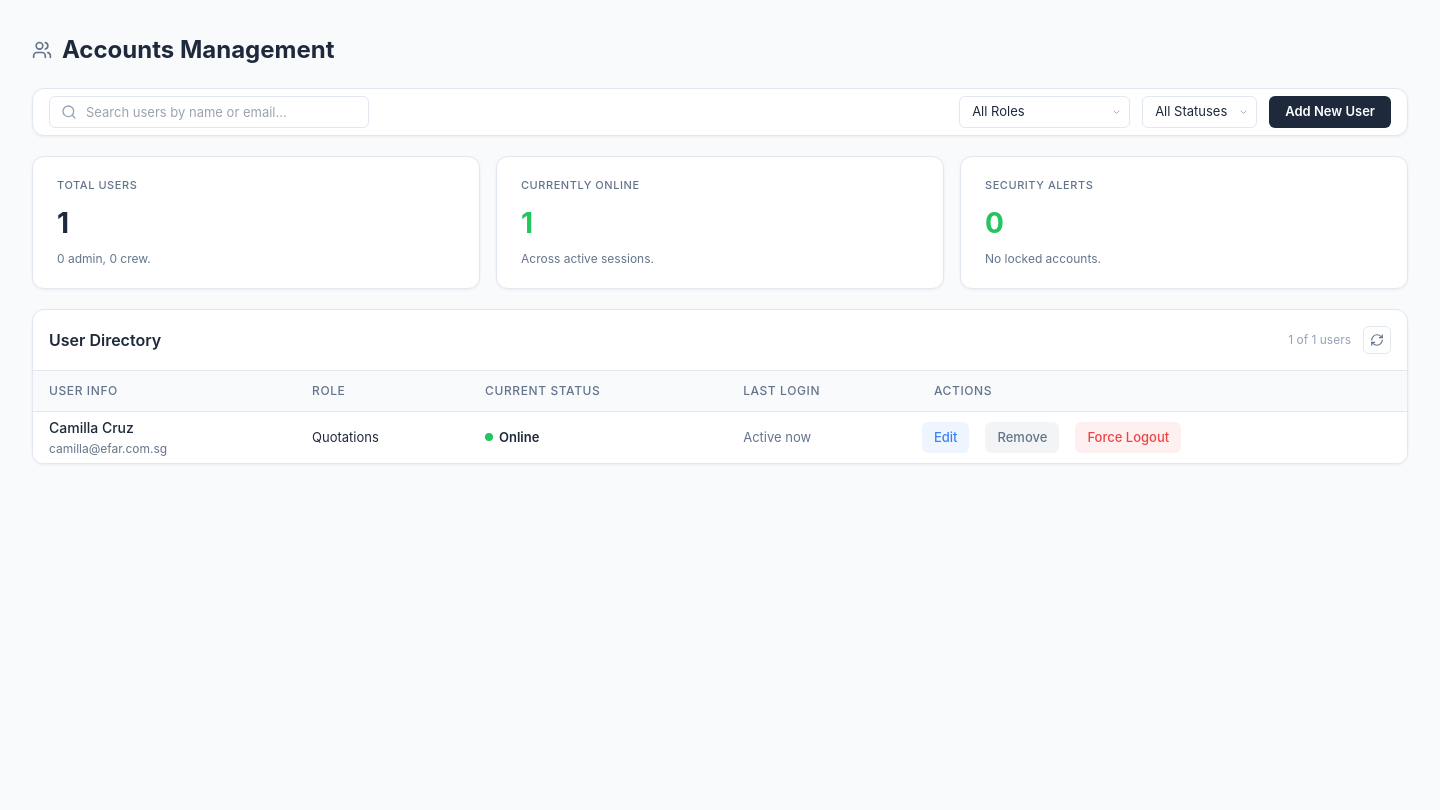
Scenario: Accounts Management - Add New User form › password visibility toggle switches the input between hidden and visible
This screenshot has width=1440, height=810.
Expected: the text "camilla@efar.com.sg" is shown, [49,441,167,456]
Click the button "Add New User" at (1330, 112), box [1269,96,1391,128]
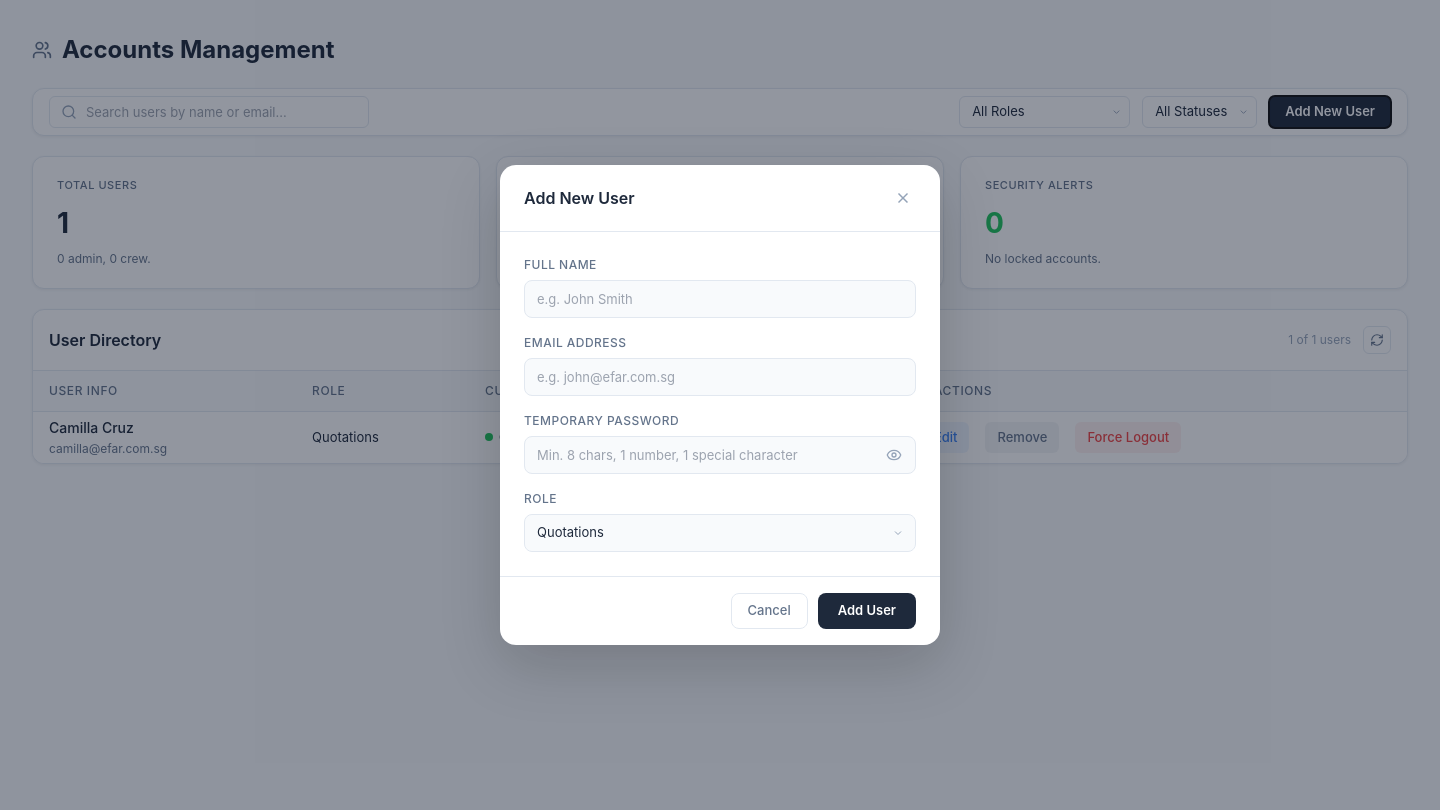
Type "Efar@2026" into the password field with placeholder "Min. 8 chars, 1 number, 1 special character" at (720, 455), box [524,436,916,474]
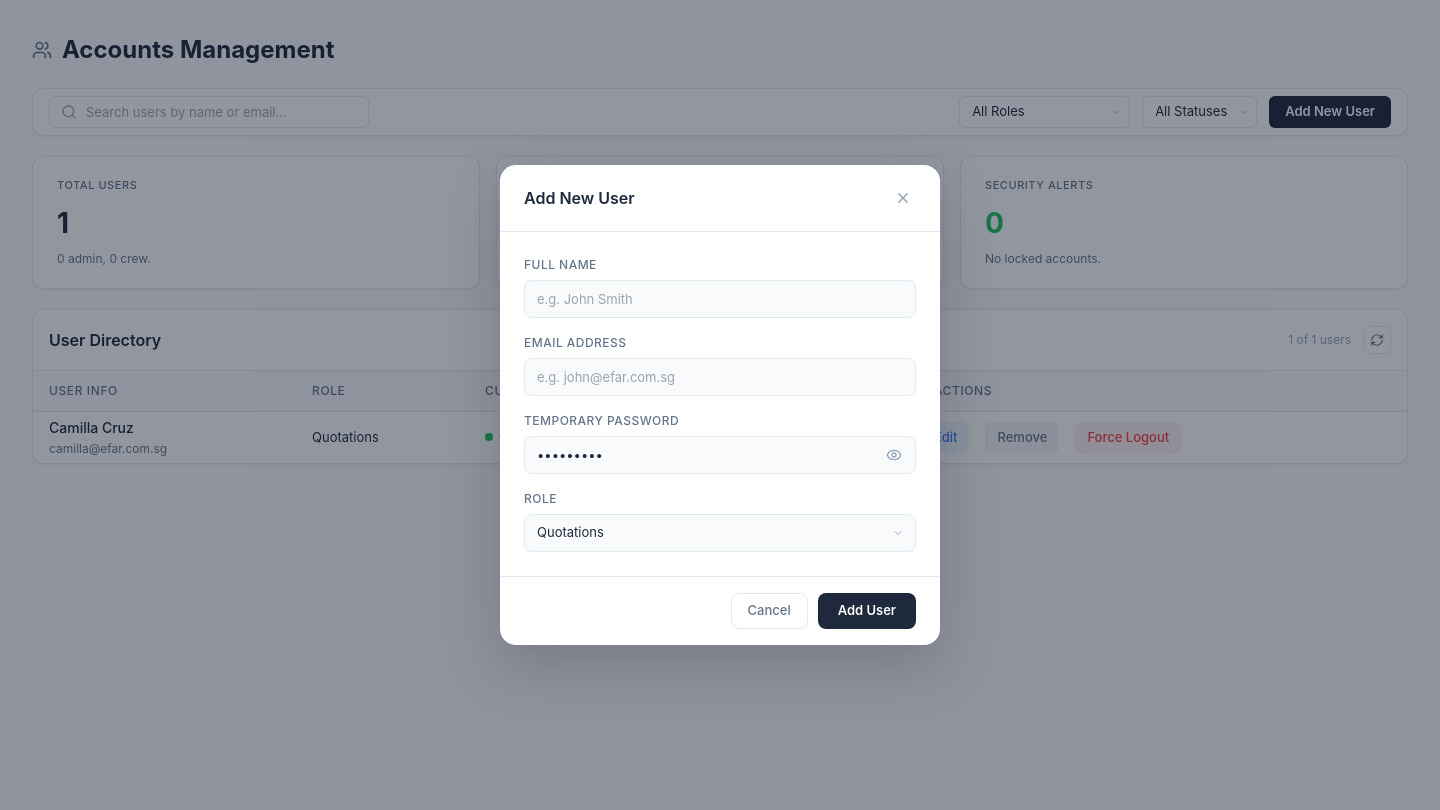
Click the button named "Show password" at (894, 455), box [880,441,908,469]
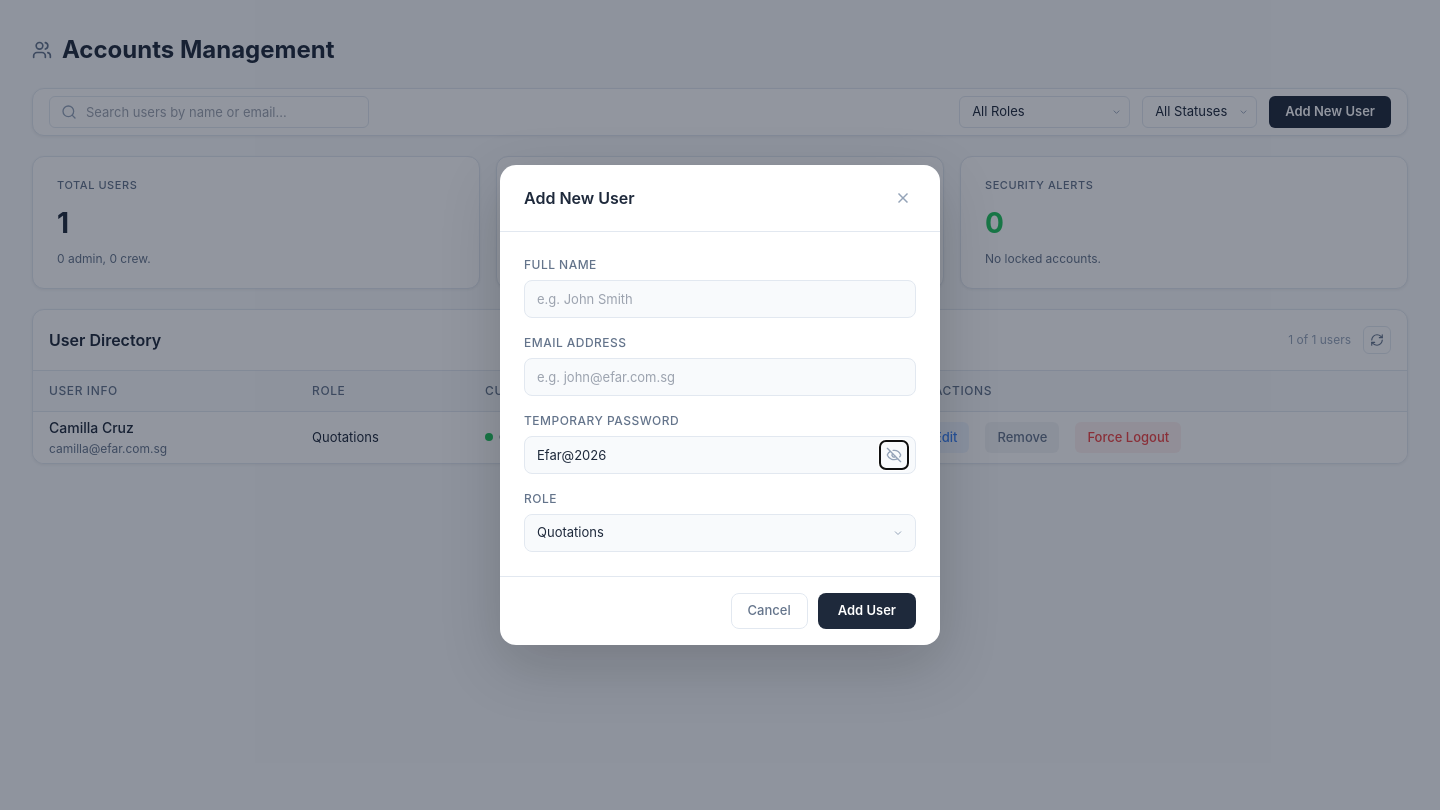
Now the field with placeholder "Min. 8 chars, 1 number, 1 special character" shows its text, box [524,436,916,474]
Click the button named "Hide password" at (894, 455), box [880,441,908,469]
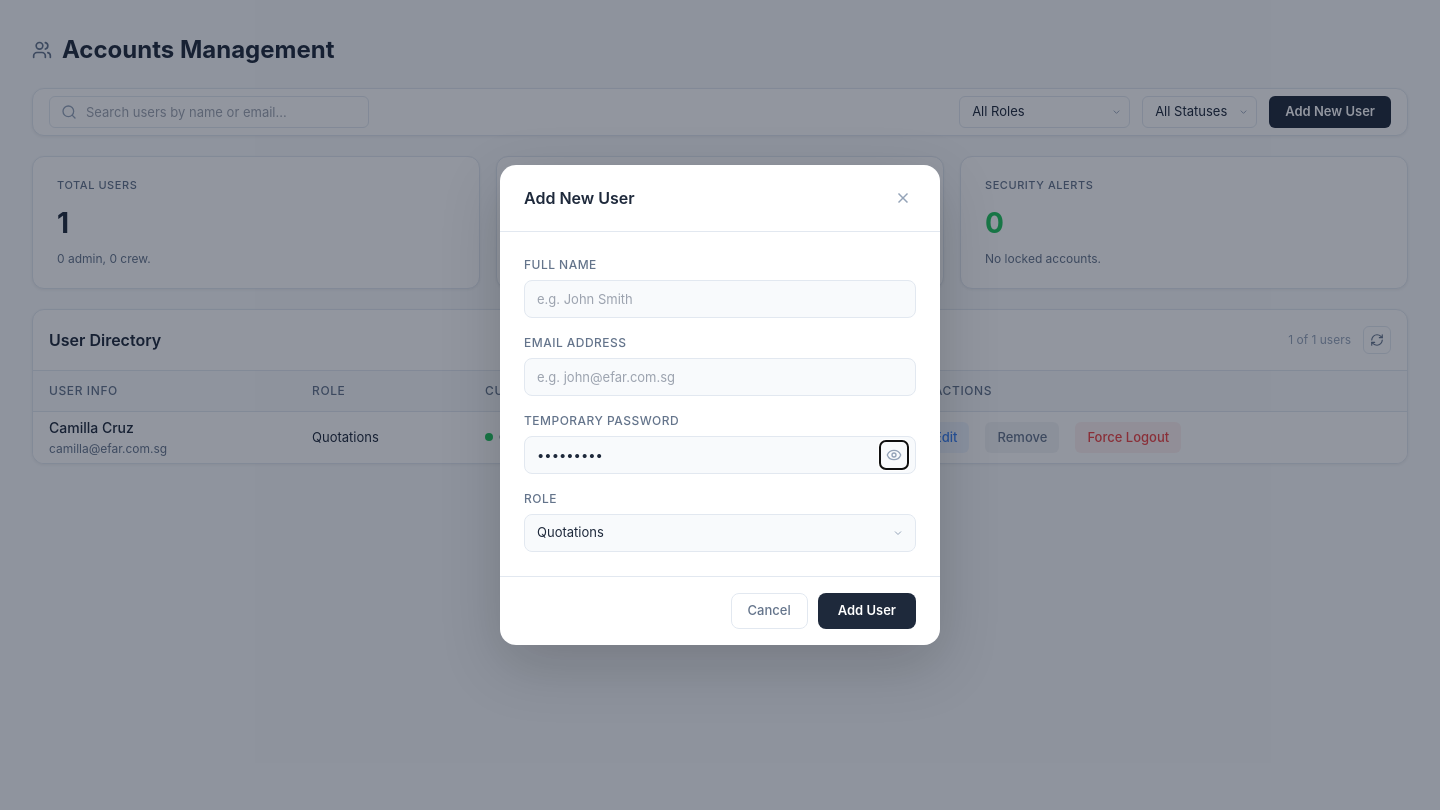
Now the password field with placeholder "Min. 8 chars, 1 number, 1 special character" hides its text, box [524,436,916,474]
